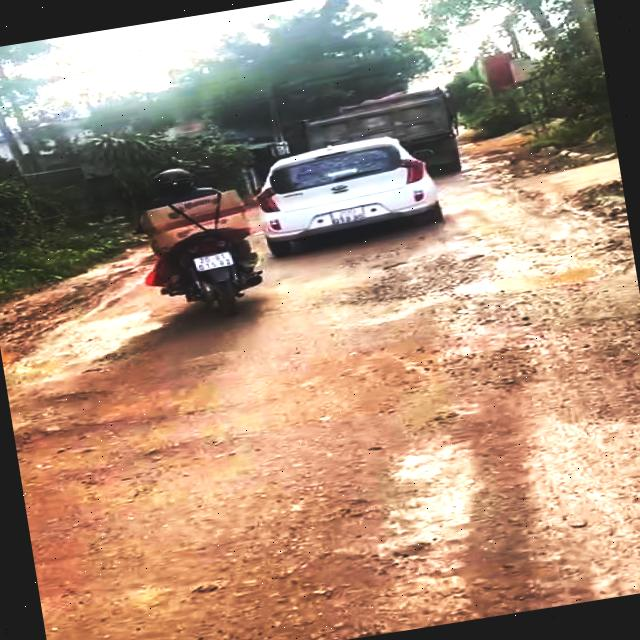pothole: (436, 250, 632, 309), (9, 386, 116, 439)
